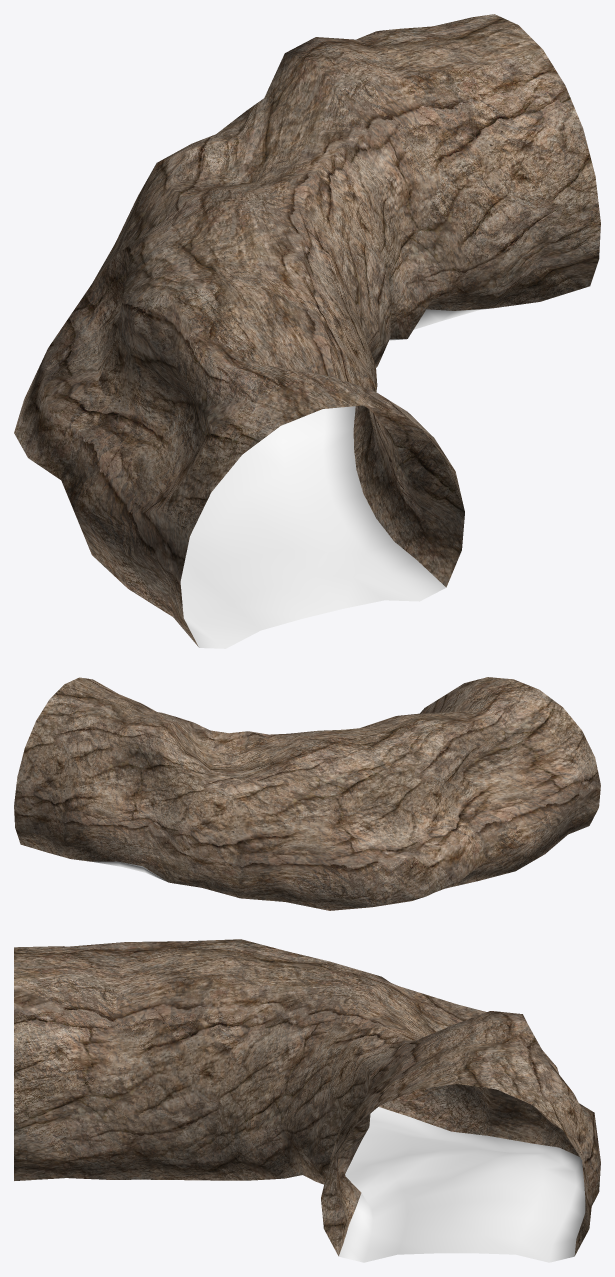
File: CaveCorridorTurnRightUp.fbx
The picture shows the model from 3 angles, top to bottom: view 1: azimuth 30°, elevation 25°; view 2: azimuth 150°, elevation 25°; view 3: azimuth 270°, elevation 25°; orthographic projection. The views are drawn at different scales.
Parts seen in each view (by area): view 1: CaveCorridorTurnRightUp; view 2: CaveCorridorTurnRightUp; view 3: CaveCorridorTurnRightUp.
Part boxes in pixels (x1,y1,x2,y2): CaveCorridorTurnRightUp: [14, 14, 600, 648]; CaveCorridorTurnRightUp: [14, 677, 600, 910]; CaveCorridorTurnRightUp: [14, 939, 600, 1262].
Size of the model in its own units: 680 by 312 by 690.
